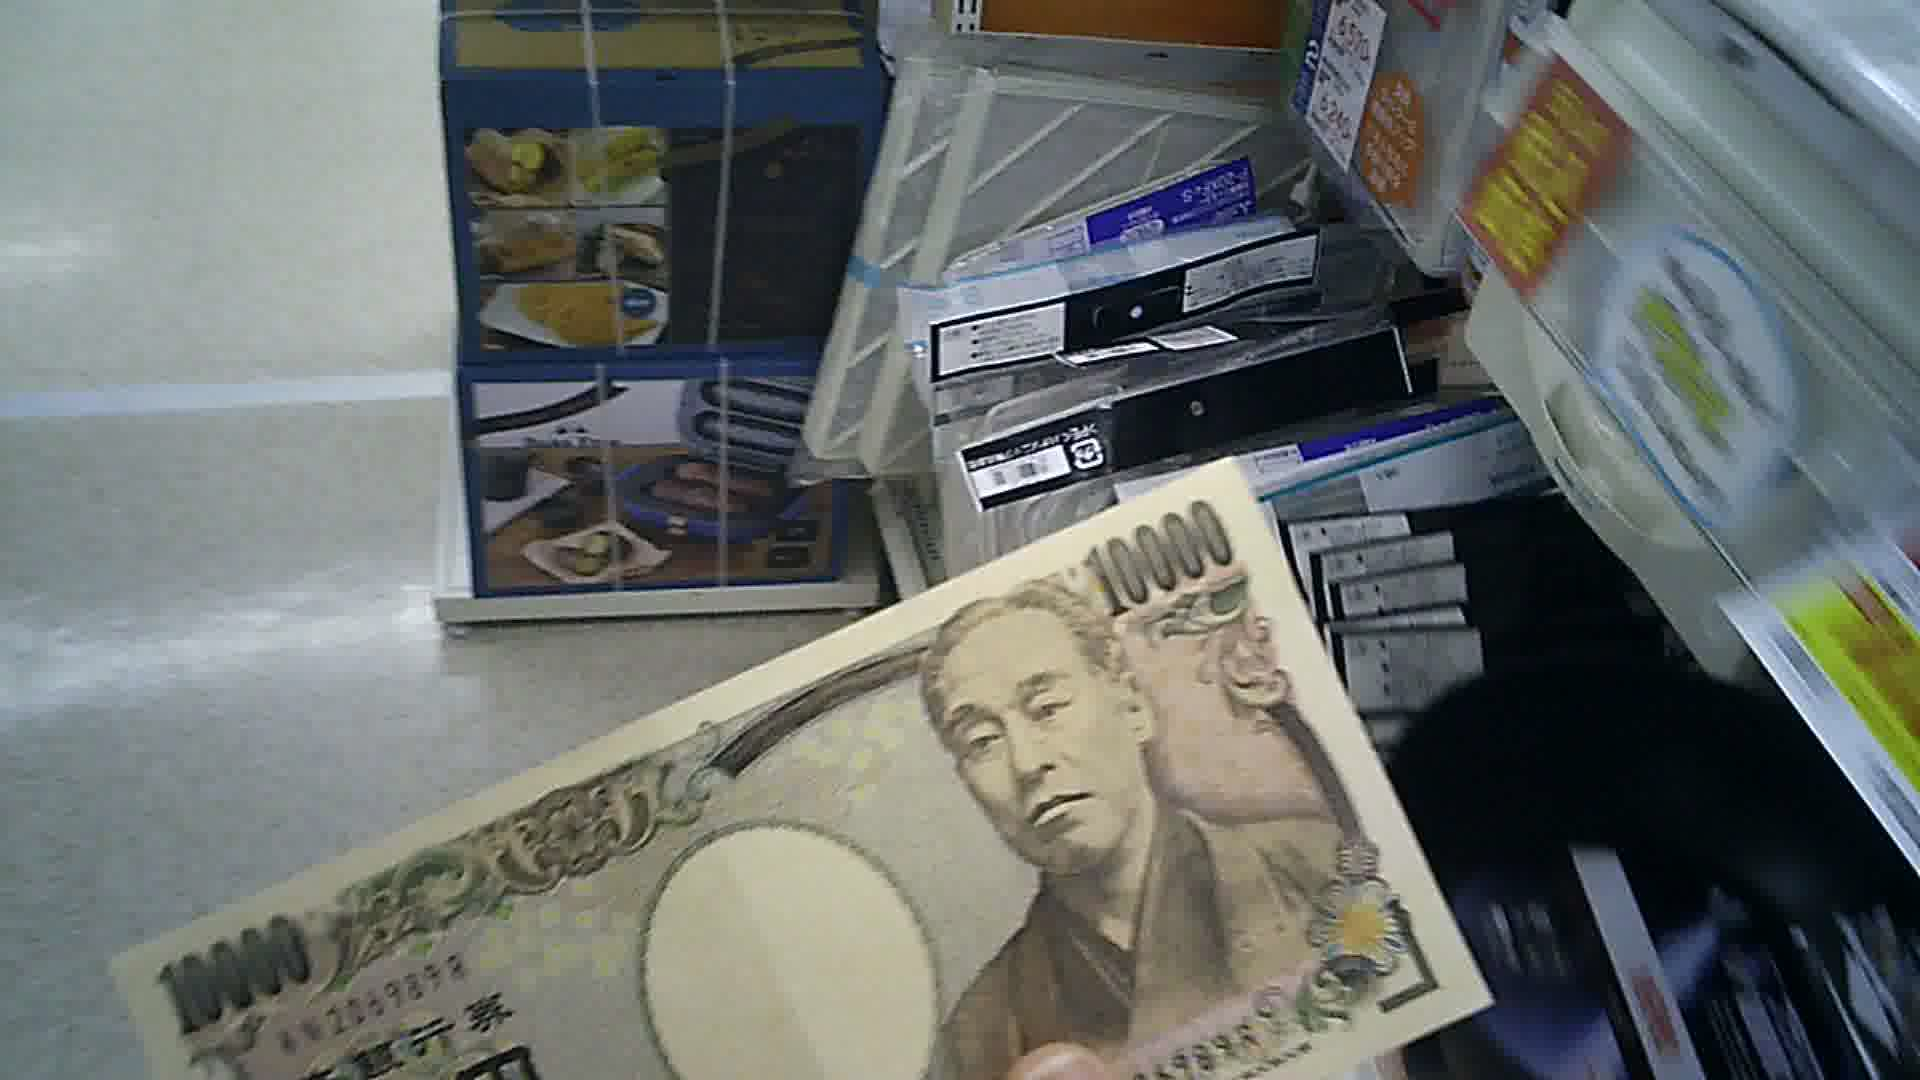10,000 Yen: (92, 464, 1487, 1079)
